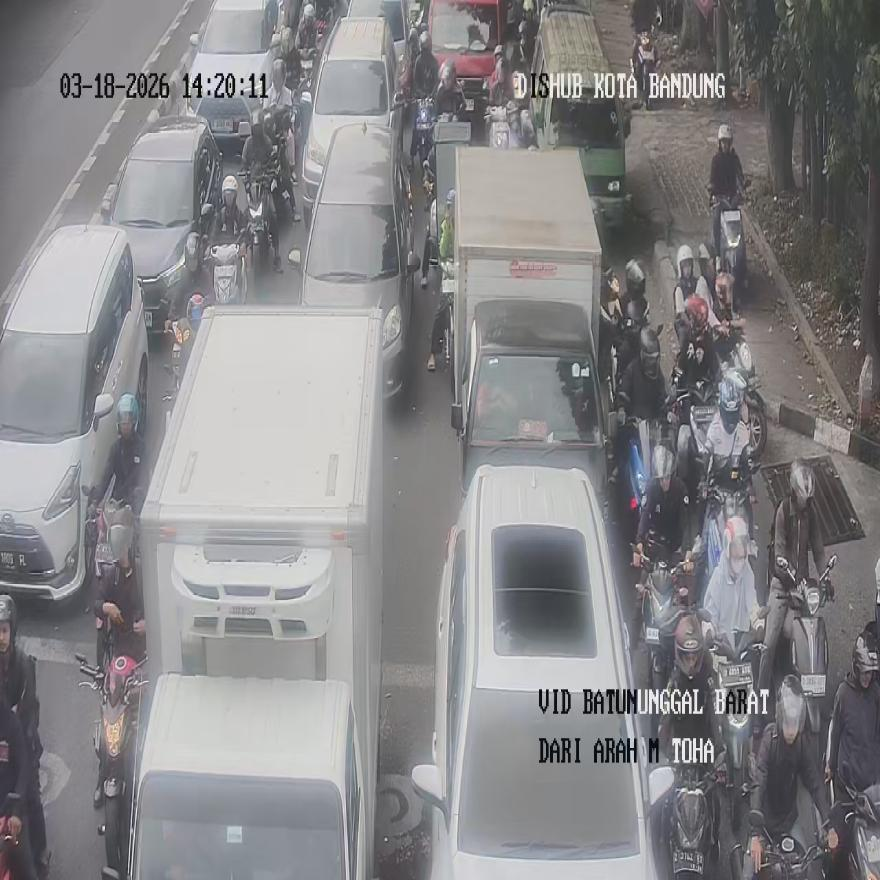Motor: (124, 308, 384, 876), (411, 464, 673, 876), (448, 147, 611, 510), (0, 225, 148, 605), (287, 121, 418, 397), (101, 115, 221, 332), (528, 3, 630, 246), (300, 16, 405, 225), (184, 0, 280, 156), (425, 0, 501, 123)
Truk: (76, 652, 147, 877), (770, 556, 836, 738), (709, 628, 762, 834), (632, 535, 696, 690), (699, 451, 754, 599), (663, 759, 725, 879), (718, 338, 766, 464), (744, 808, 828, 880), (826, 777, 880, 880), (712, 189, 748, 296), (244, 170, 276, 271), (426, 256, 454, 371), (211, 242, 248, 304), (410, 93, 436, 176), (631, 29, 657, 110), (421, 160, 437, 287), (519, 0, 537, 62)
